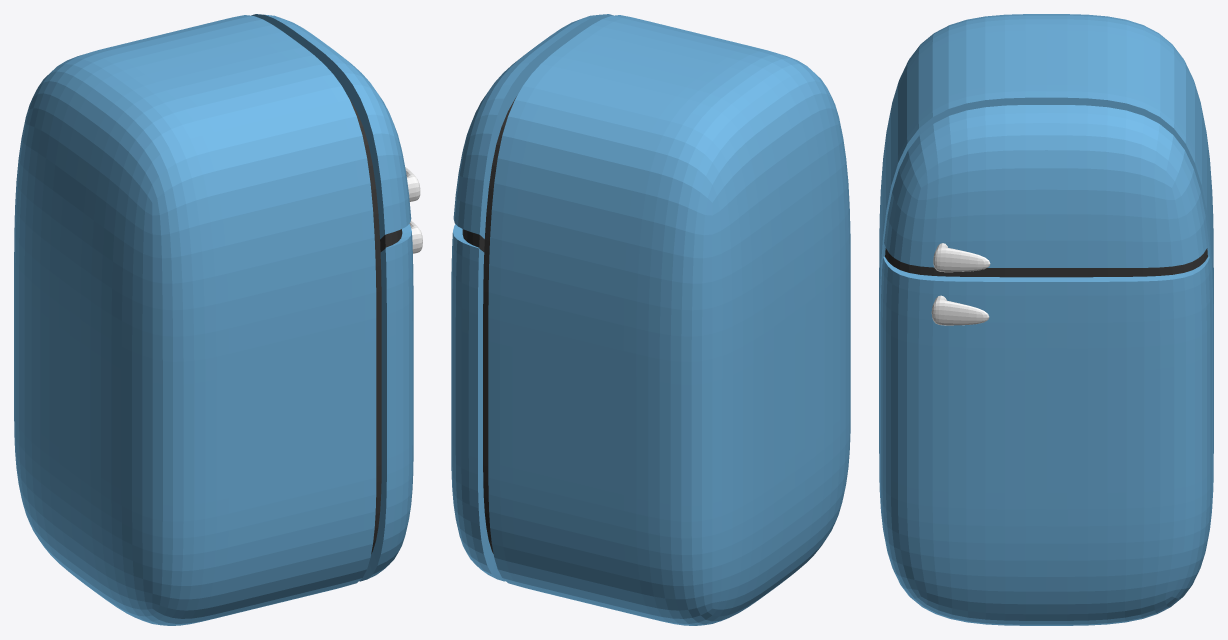
File: Fridge.fbx
3 renders of one model, left to right at view 1: azimuth 30°, elevation 25°; view 2: azimuth 150°, elevation 25°; view 3: azimuth 270°, elevation 25°, orthographic.
Parts seen in each view (by area): view 1: Fridge; view 2: Fridge; view 3: Fridge.
Boxes of the visible parts, x1,y1,x2,y2 form: Fridge: (14, 14, 422, 625); Fridge: (451, 14, 850, 625); Fridge: (879, 14, 1213, 625).
Bounding box in the file's own units: 211 × 344 × 200.
